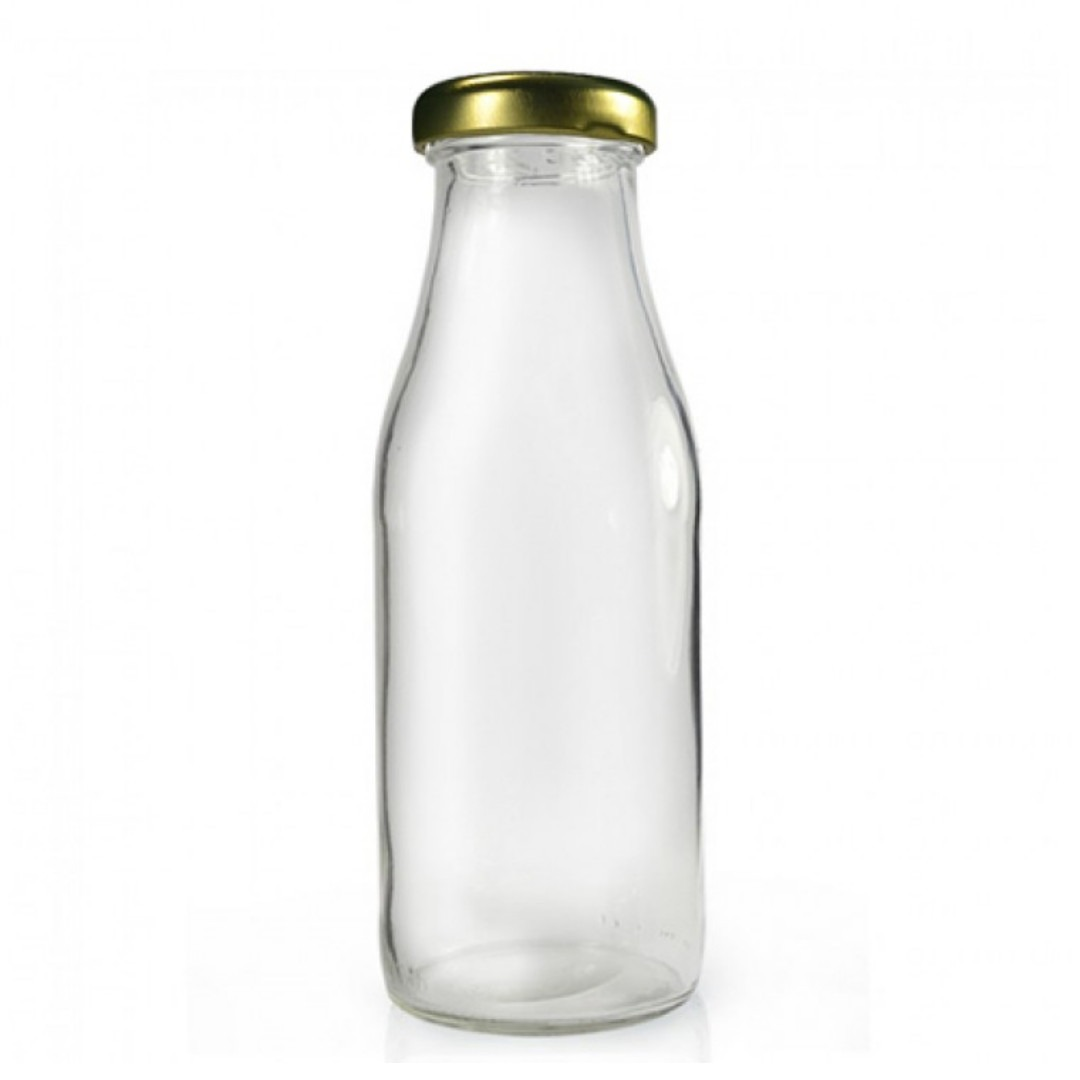container: (355, 59, 720, 1035)
